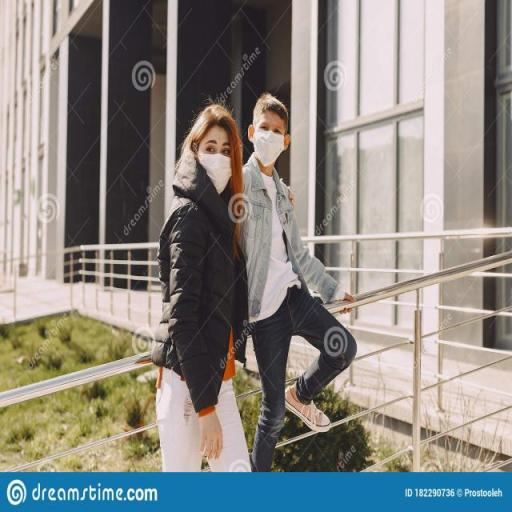person: (244, 94, 360, 471), (154, 103, 254, 475)
